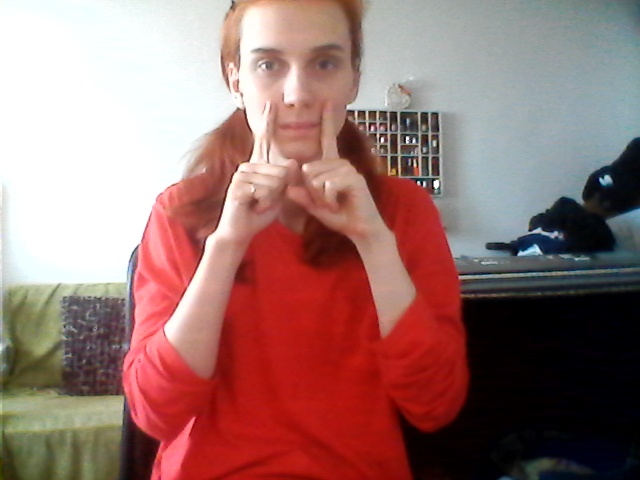h: (241, 102, 361, 237)
